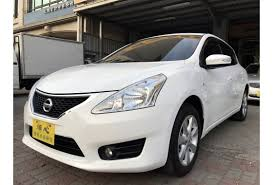car: (21, 25, 253, 177)
